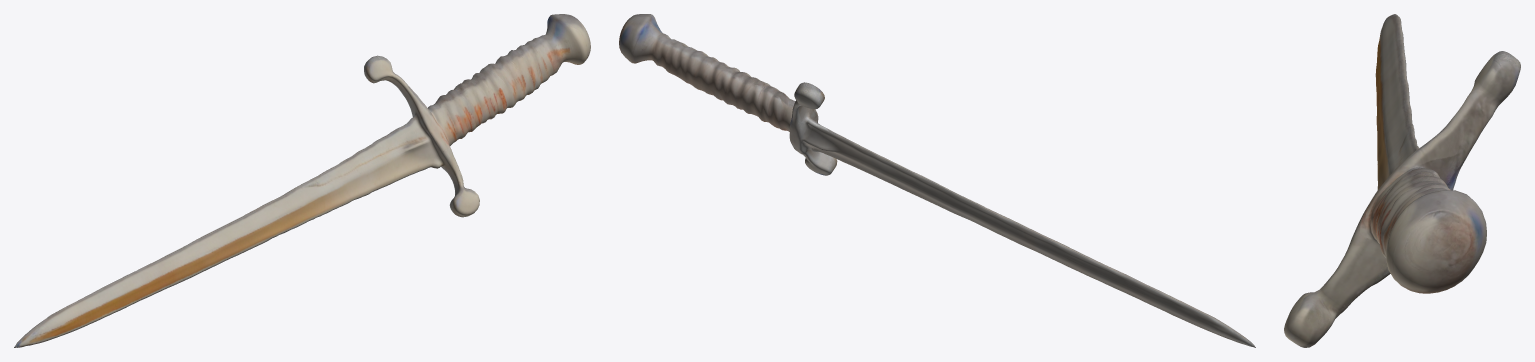
File: Bronze Sword.glb
3 views of the same model, side by side, from view 1: azimuth 30°, elevation 25°; view 2: azimuth 150°, elevation 25°; view 3: azimuth 270°, elevation 25° (orthographic). The views are drawn at different scales.
Visible parts, largest first — view 1: file1; view 2: file1; view 3: file1.
Boxes of the visible parts, x1,y1,x2,y2 form: file1: [14, 14, 590, 347]; file1: [619, 14, 1255, 347]; file1: [1284, 14, 1520, 347].
Size of the model in its own units: 2 by 0.6078 by 0.3628.
Materials: 1 (1 with a texture image).
